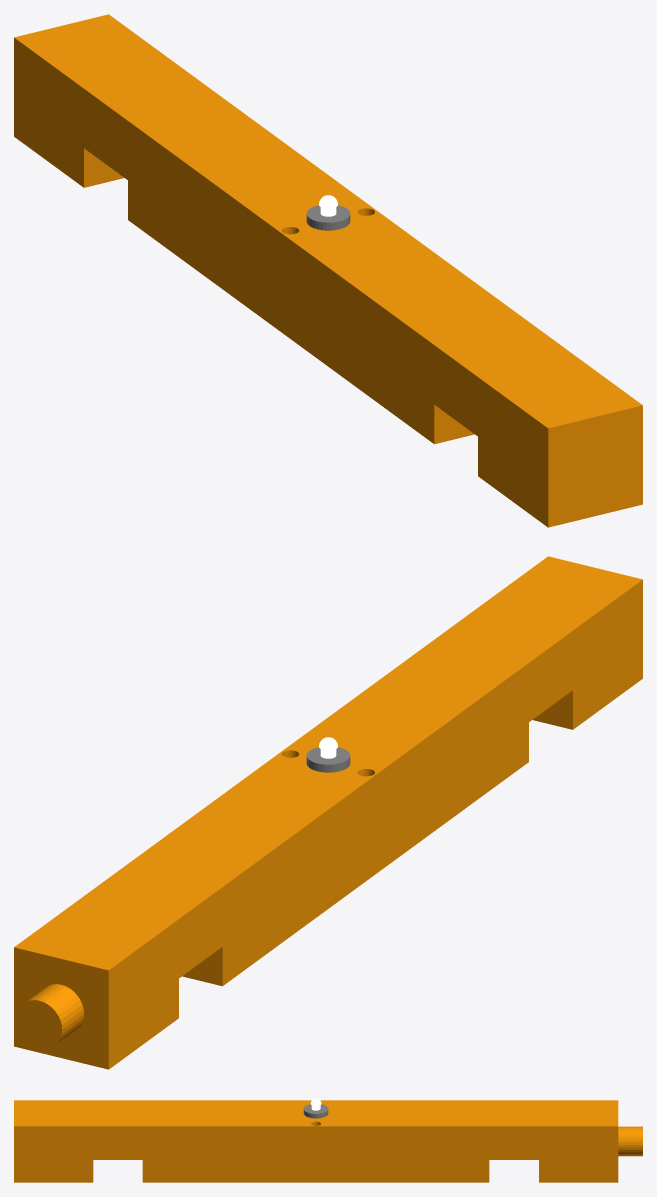
File: BARRIER_LOW_ORANGE.gltf
The picture shows the model from 3 angles, top to bottom: view 1: azimuth 30°, elevation 25°; view 2: azimuth 150°, elevation 25°; view 3: azimuth 270°, elevation 25°; orthographic projection. The views are drawn at different scales.
Parts seen in each view (by area): view 1: BARRIER_BODY, FILL_CAP; view 2: BARRIER_BODY, MALE_TAB, FILL_CAP; view 3: BARRIER_BODY, MALE_TAB, FILL_CAP.
Boxes of the visible parts, left/top/right/bottom form: BARRIER_BODY: left=14, top=14, right=642, bottom=527; FILL_CAP: left=306, top=205, right=350, bottom=230; BARRIER_BODY: left=14, top=556, right=642, bottom=1069; MALE_TAB: left=16, top=984, right=83, bottom=1048; FILL_CAP: left=306, top=747, right=350, bottom=772; BARRIER_BODY: left=14, top=1100, right=618, bottom=1182; MALE_TAB: left=618, top=1126, right=642, bottom=1156; FILL_CAP: left=303, top=1104, right=328, bottom=1118.
Size of the model in its own units: 0.25 by 0.314 by 2.54.
